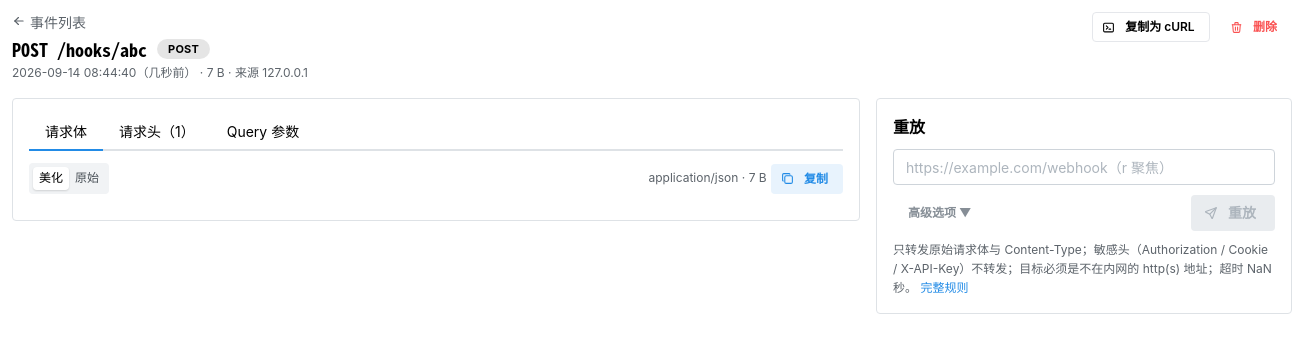
EventScreen sensitive headers › disables the reveal switch when nothing is protected
This screenshot has width=1304, height=364.
Expected: the heading "POST /hooks/abc" is shown, [12,36,147,62]
Click the tab "请求头（1）". click: coordinates (157, 133)
box: [103,115,211,151]
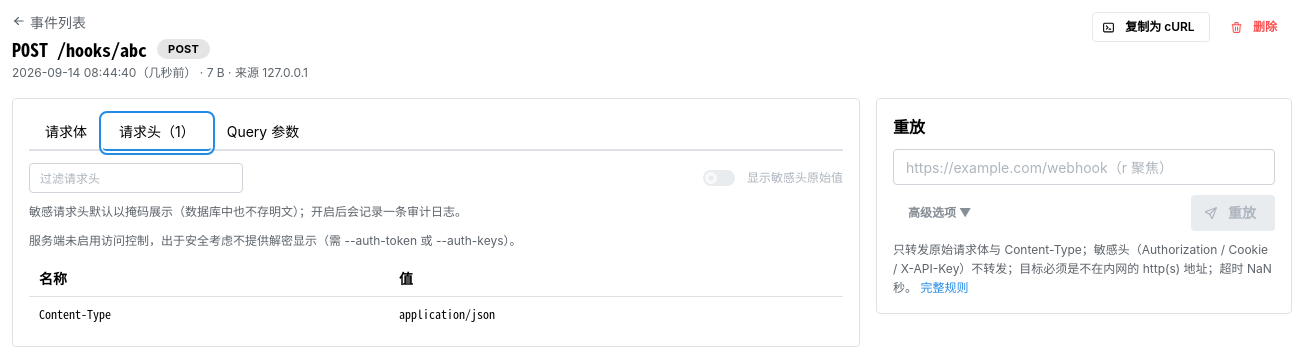
Result: the switch is disabled at [703,170,843,186]
